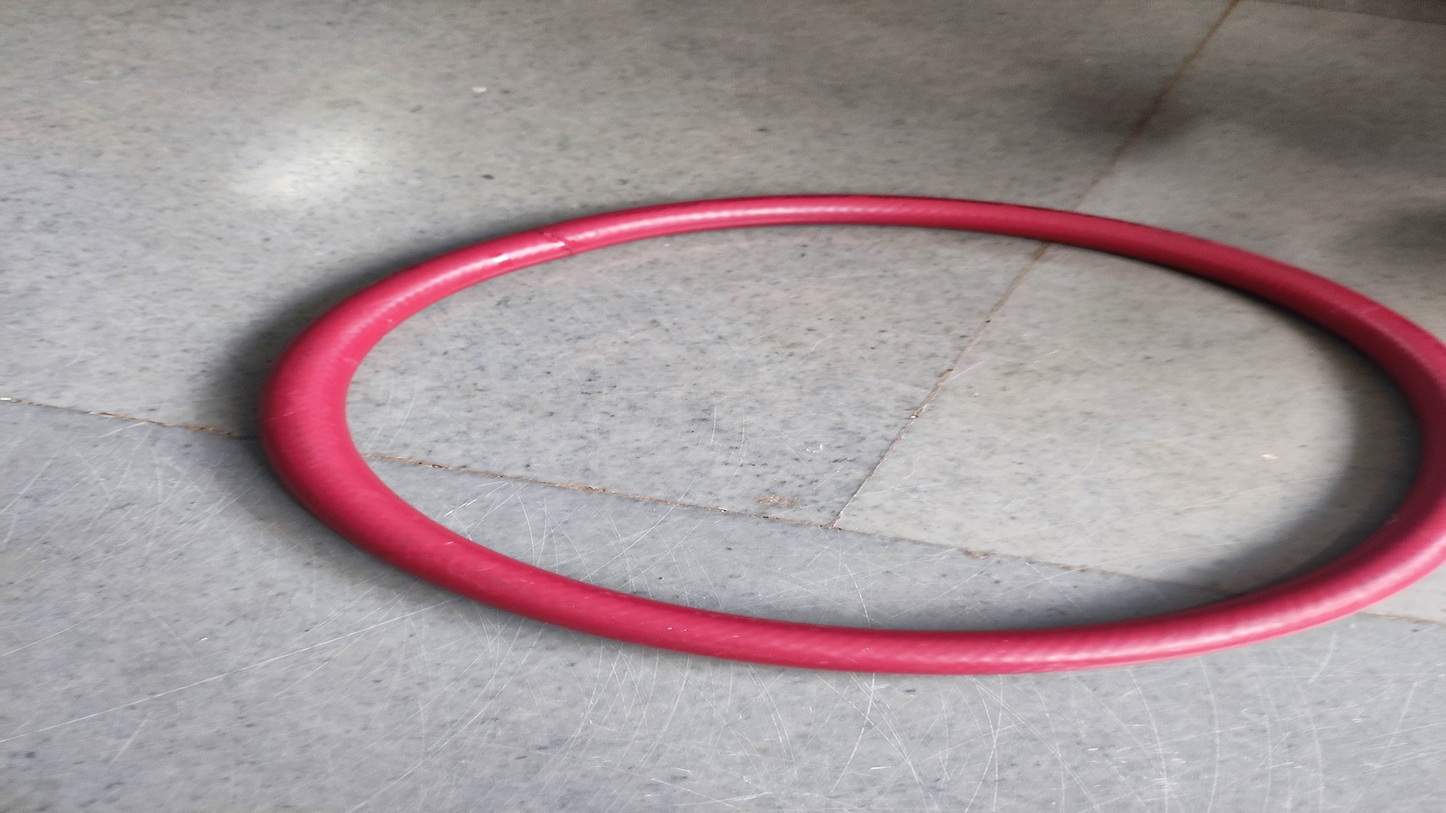Red ring: (266, 196, 1446, 671)
